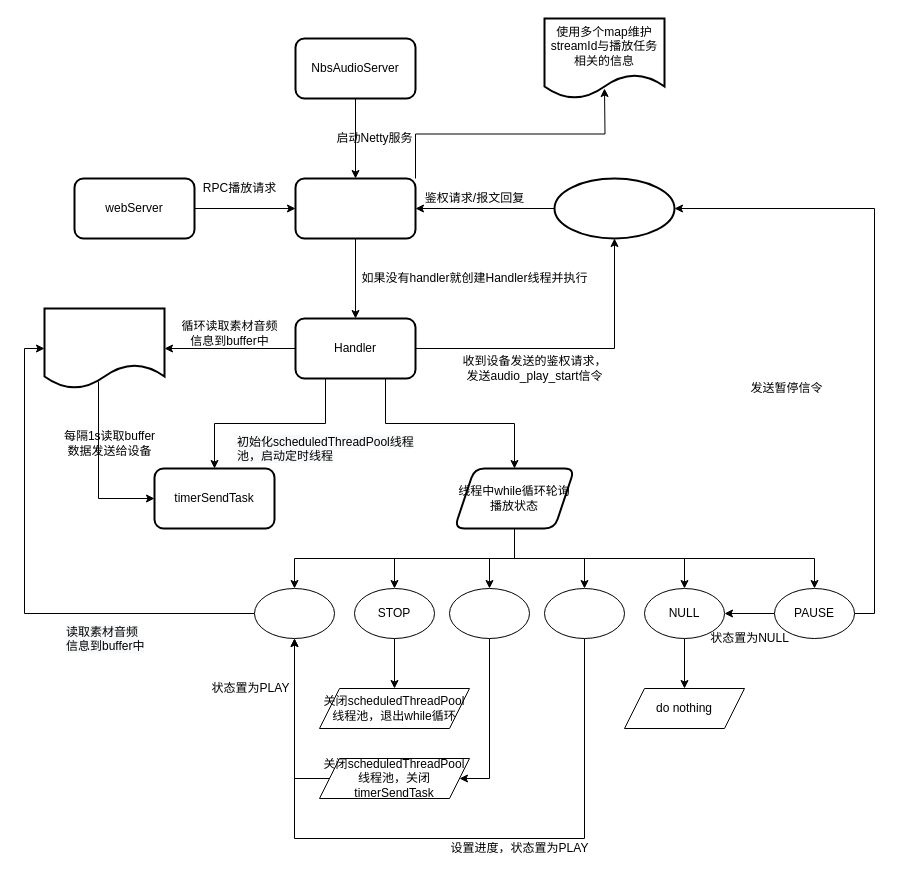
The diagram is 900 pixels wide and 875 high, and some of its shapes have lost their labels. The centre of each missing label's shape, as x and y in pixels:
"NettyReadHandler" goes at point (355, 208).
"PLAY" goes at point (294, 613).
"RESUME" goes at point (489, 613).
"UPDATE" goes at point (584, 613).
"音箱" goes at point (614, 208).
"音频数据buffer数组" goes at point (104, 348).
